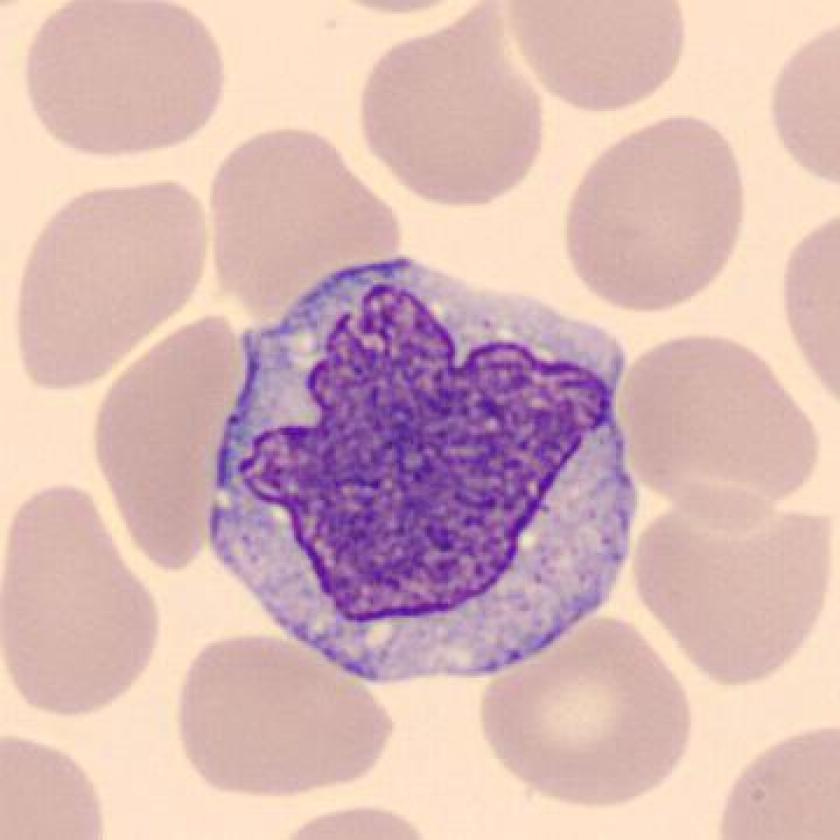monocyte: (188, 232, 668, 707)
